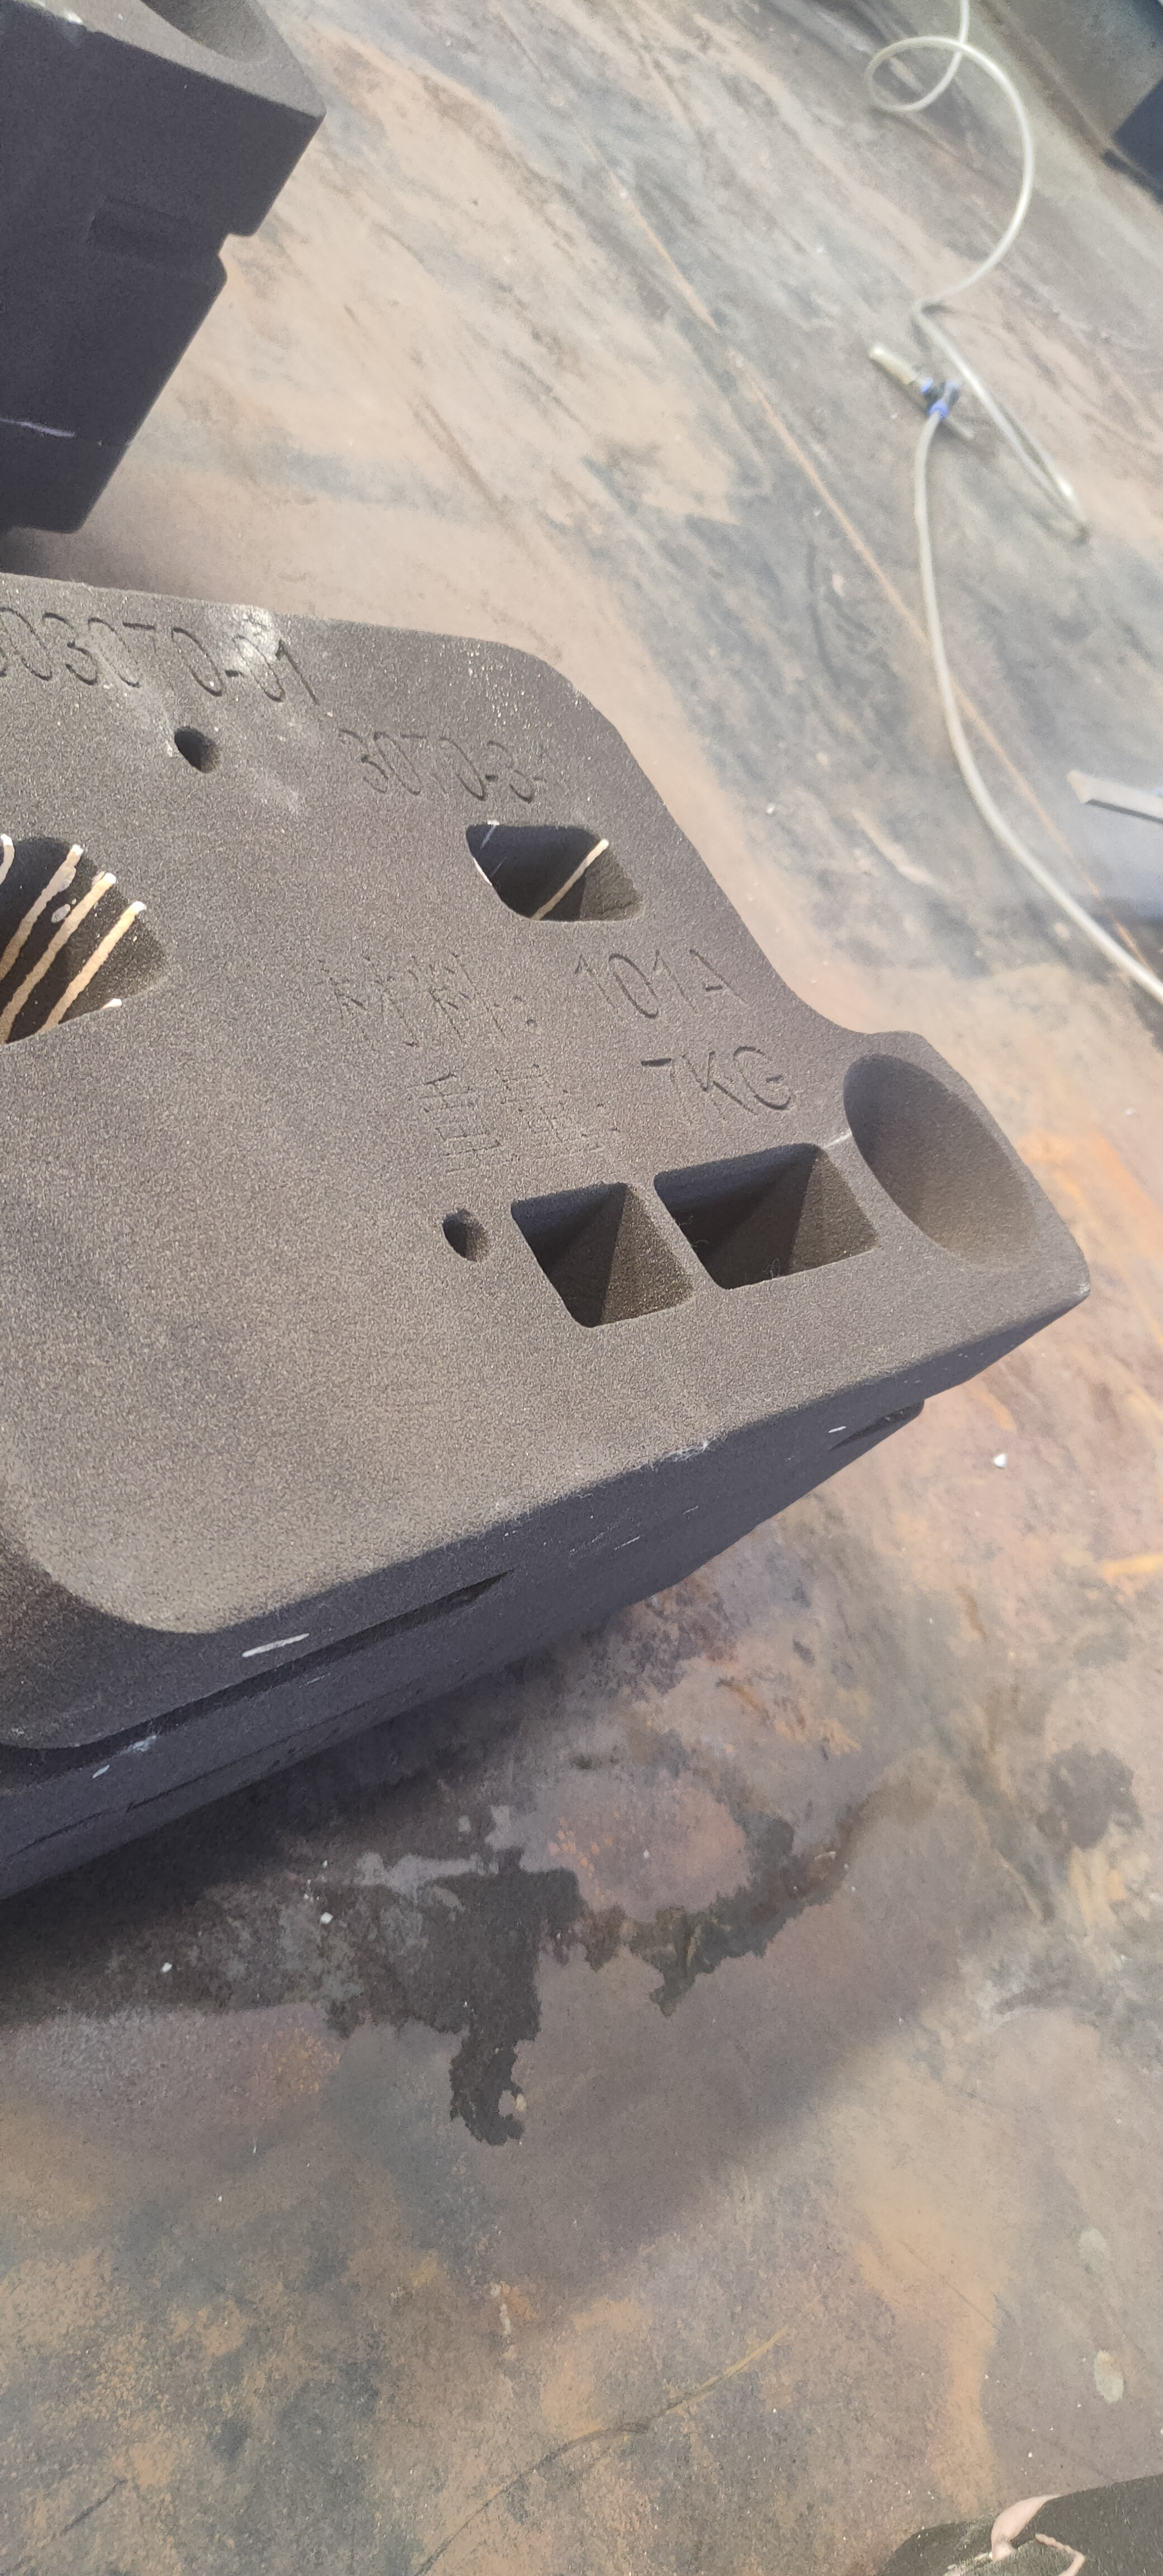pouring hole: (839, 1051, 1035, 1265), (133, 0, 276, 62)
